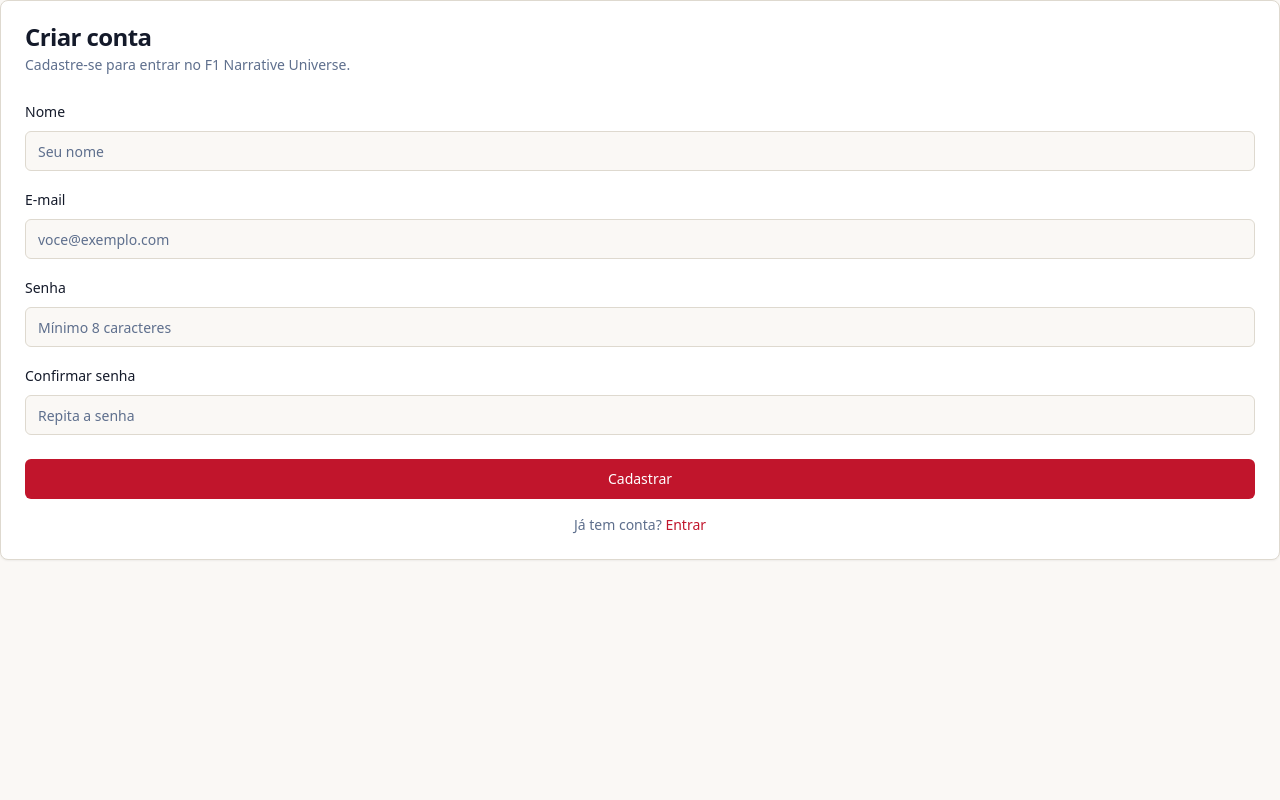
Test case: RegisterForm › 2 - email vazio: inválido, sessão não submetida
Type "João da Silva" into the field labelled "Nome". click: (640, 151)
box: [25,131,1255,171]
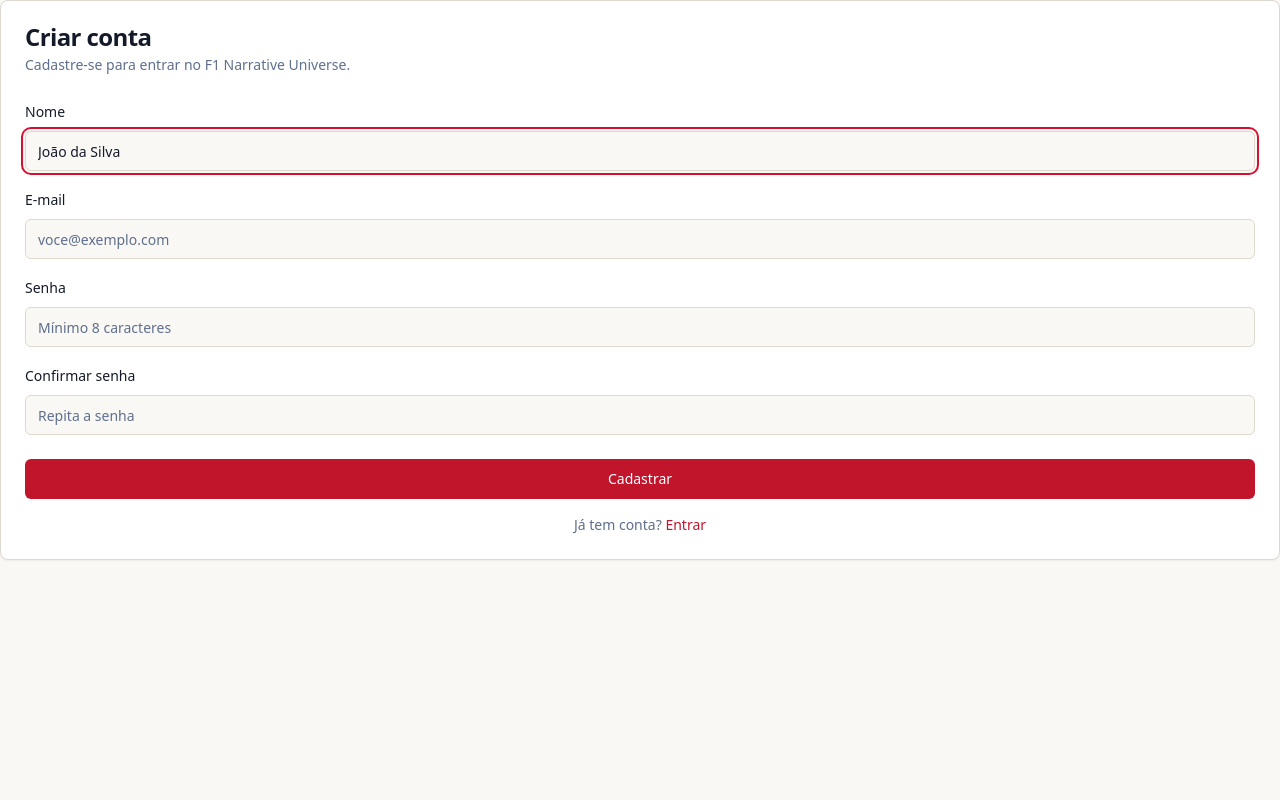
Type "senha-segura-123" into the password field labelled "Senha". click: (640, 327)
box: [25,307,1255,347]
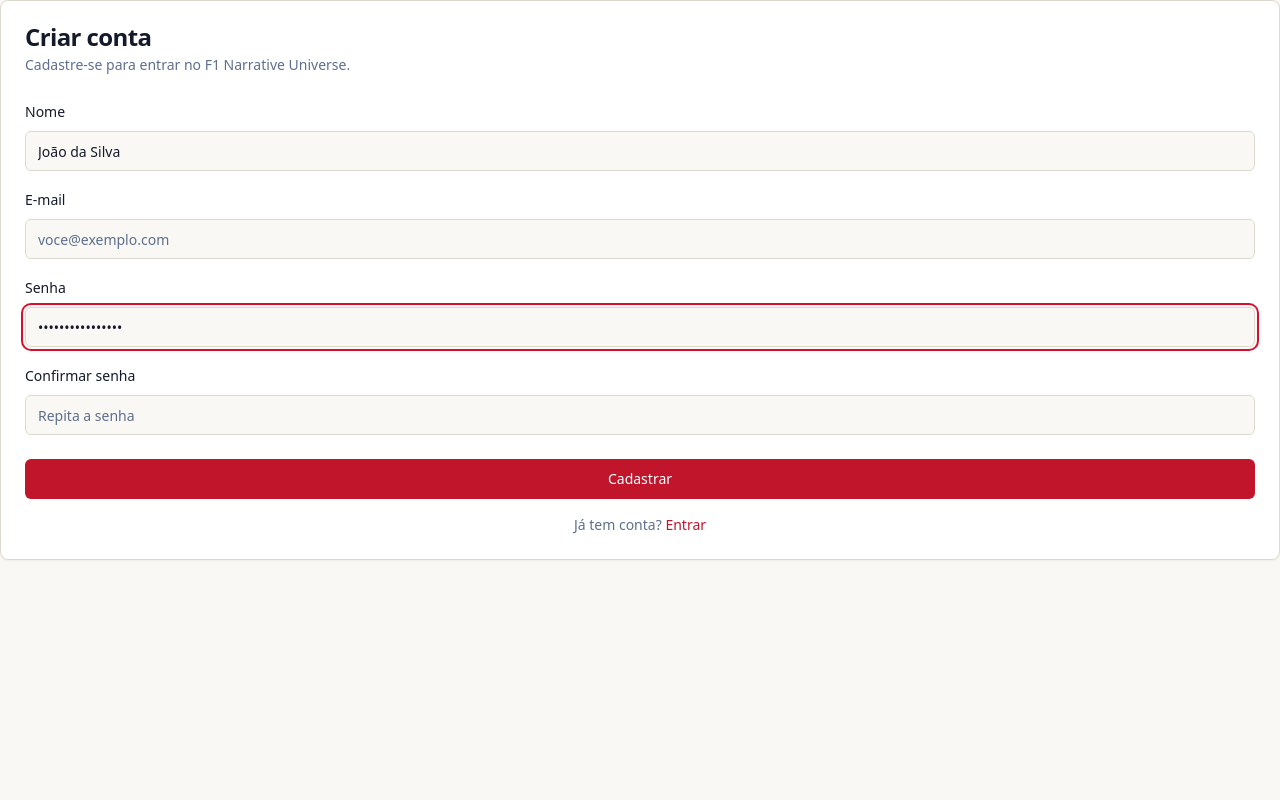
Type "senha-segura-123" into the password field labelled "Confirmar senha". click: (640, 415)
box: [25,395,1255,435]
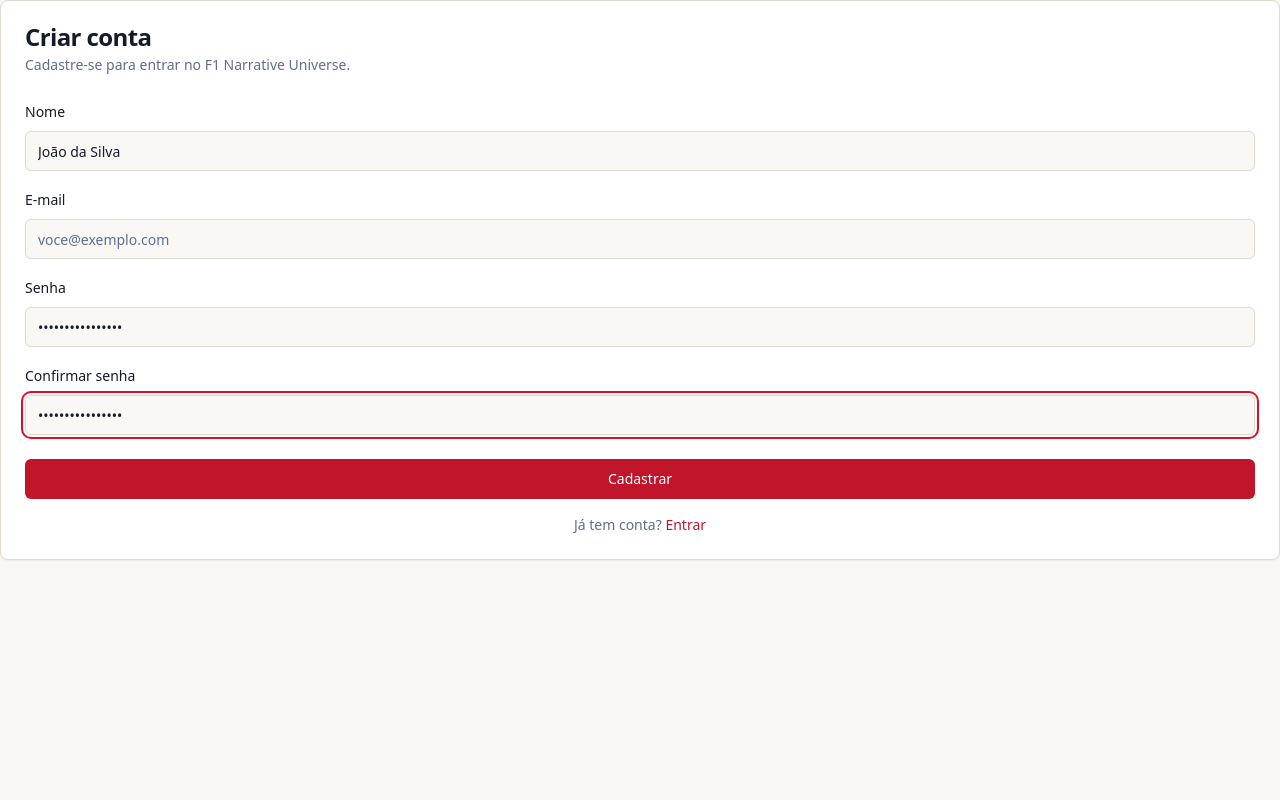
Click the button "Cadastrar". click: (640, 479)
box: [25,459,1255,499]
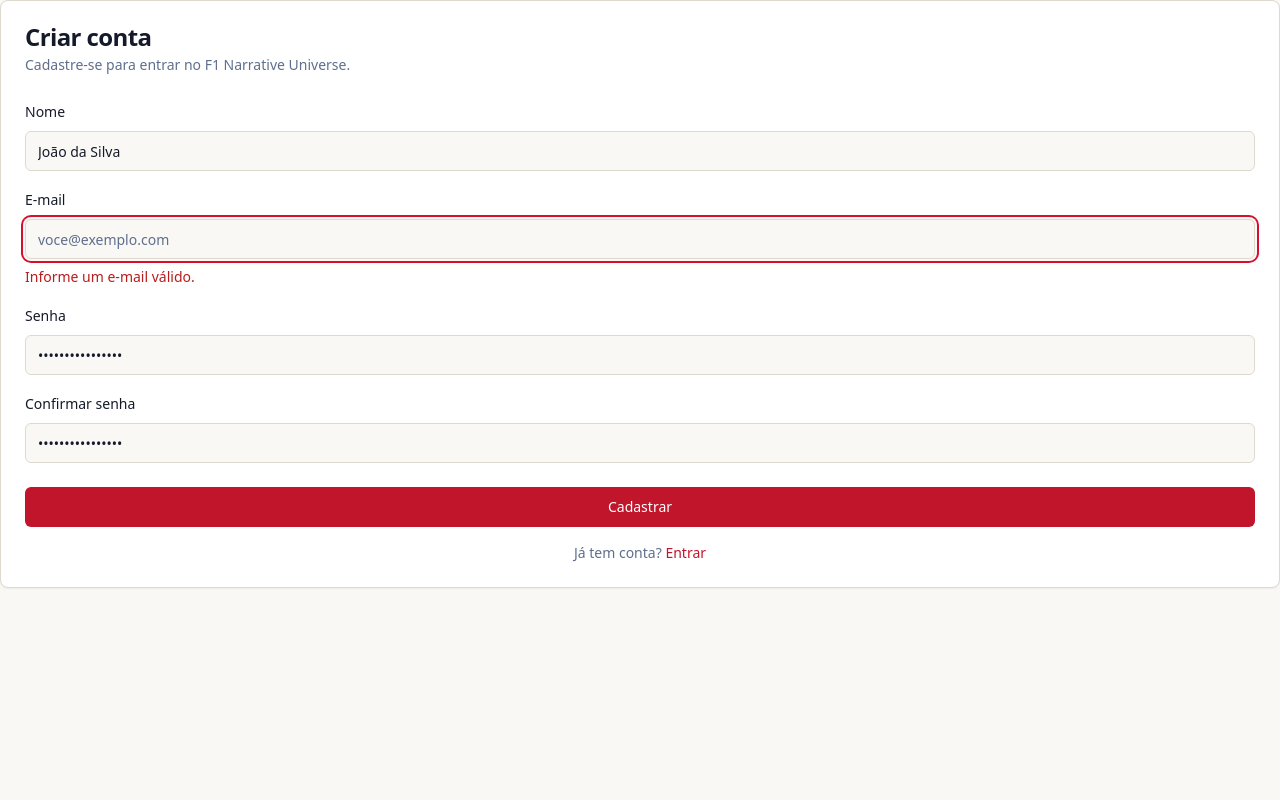
Expected: the text "Informe um e-mail válido." is shown, [25,267,195,286]
